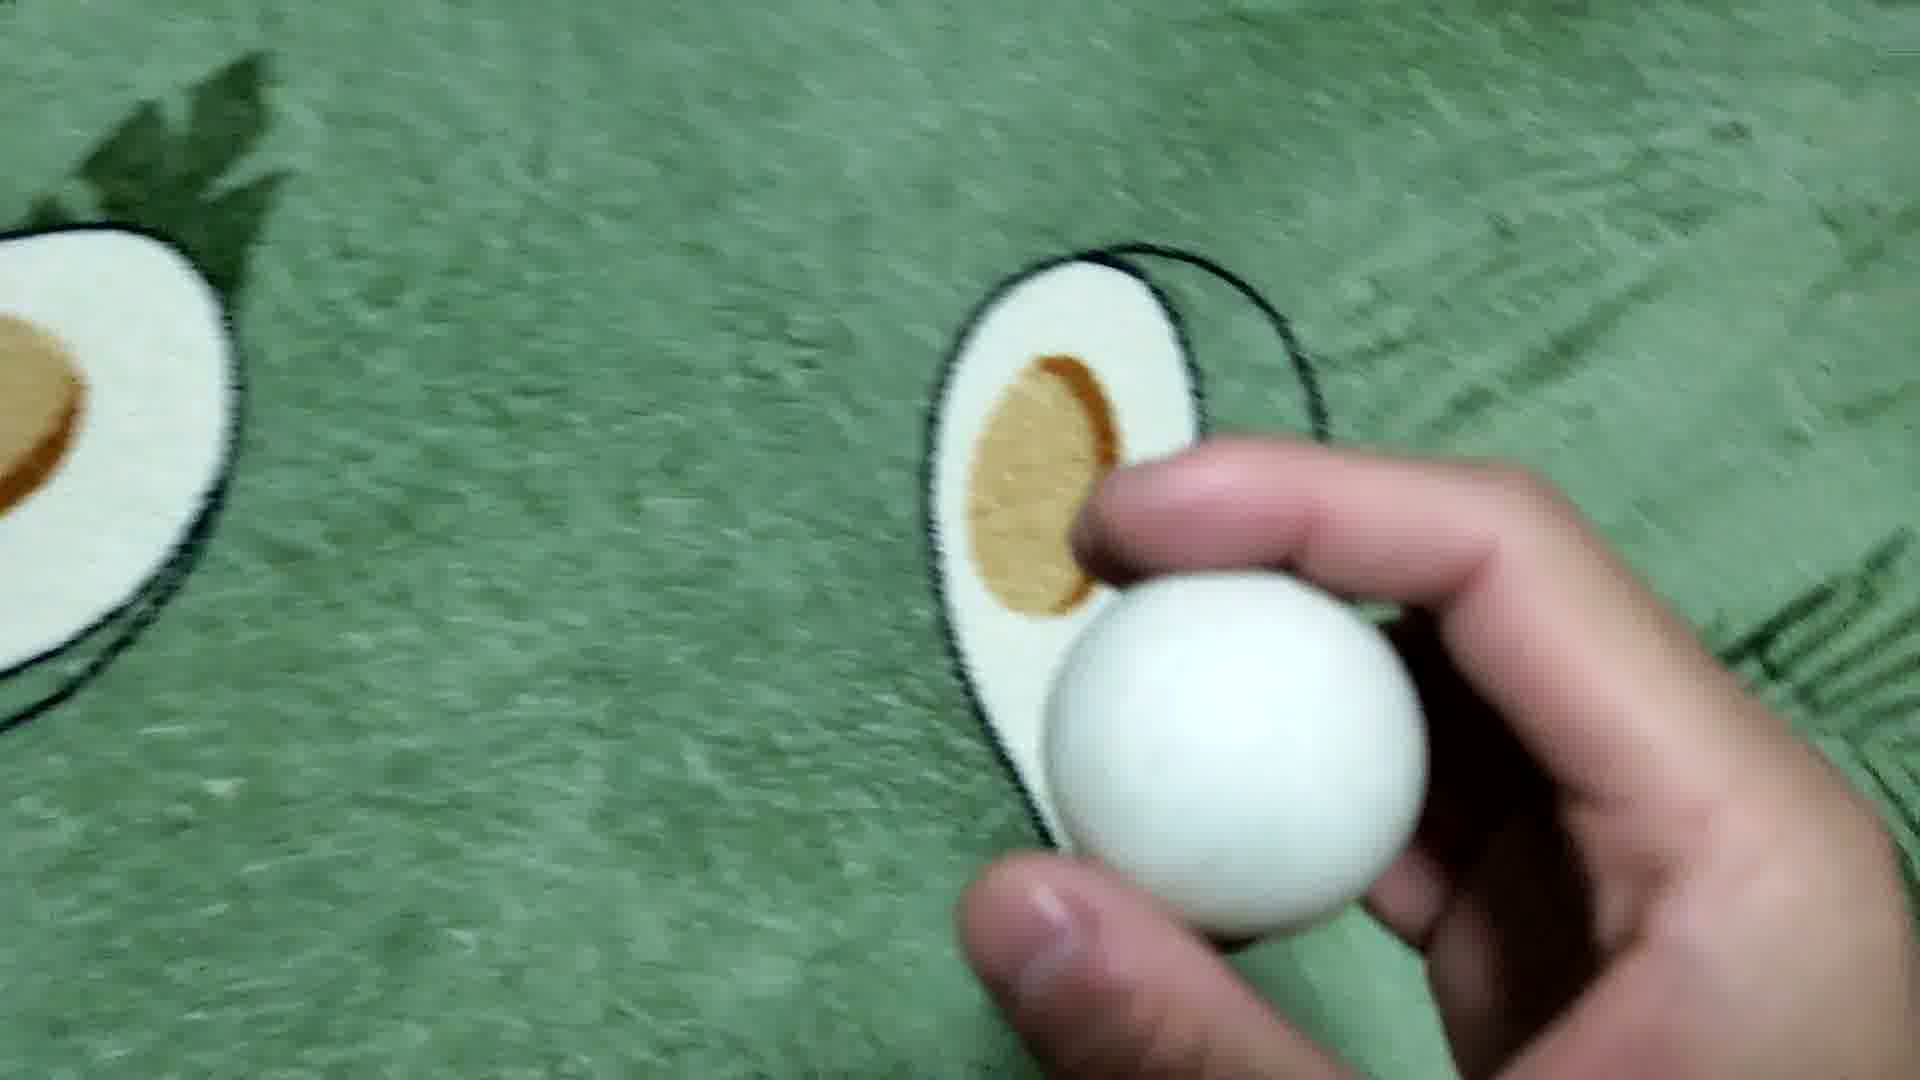Ball: (1046, 571, 1418, 935)
